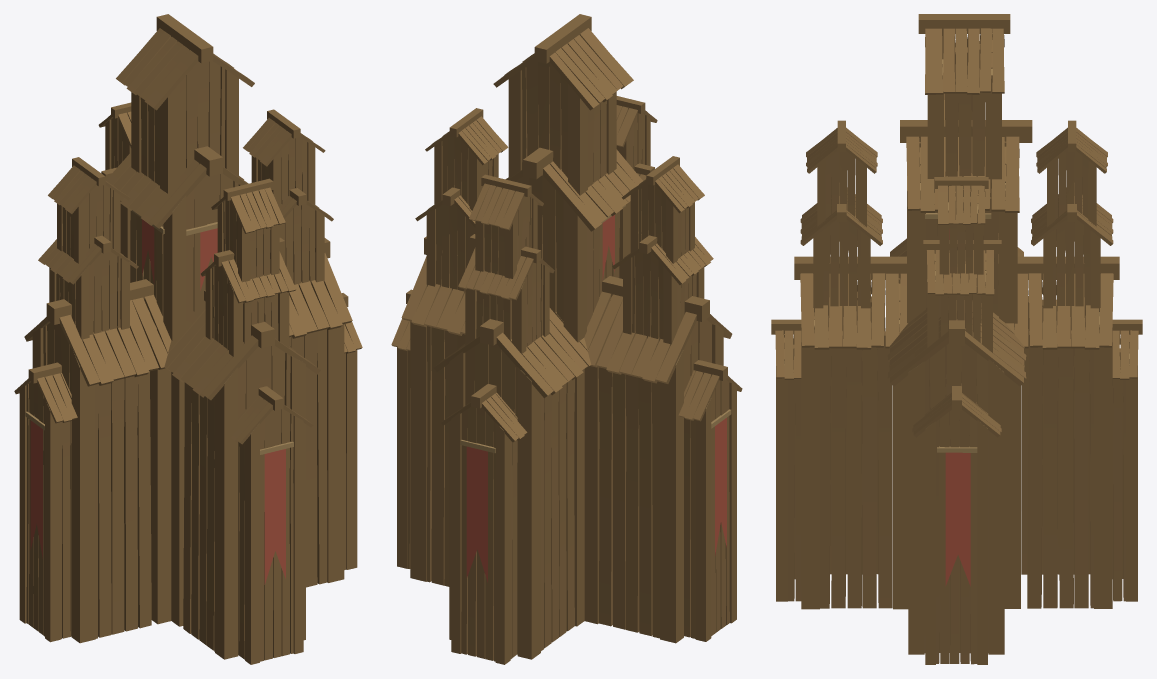
Rendered from quaternius-real-time-strategy-temple-first-age-level-3.glb.
3 views of the same model, side by side, from view 1: azimuth 30°, elevation 25°; view 2: azimuth 150°, elevation 25°; view 3: azimuth 270°, elevation 25° (orthographic). The views are drawn at different scales.
Parts seen in each view (by area): view 1: Temple_FirstAge_Level3; view 2: Temple_FirstAge_Level3; view 3: Temple_FirstAge_Level3.
Boxes of the visible parts, left/top/right/bottom form: Temple_FirstAge_Level3: left=14, top=14, right=362, bottom=664; Temple_FirstAge_Level3: left=391, top=14, right=742, bottom=664; Temple_FirstAge_Level3: left=771, top=14, right=1142, bottom=664.
Bounding box in the file's own units: 1.81 × 3.08 × 1.81.
